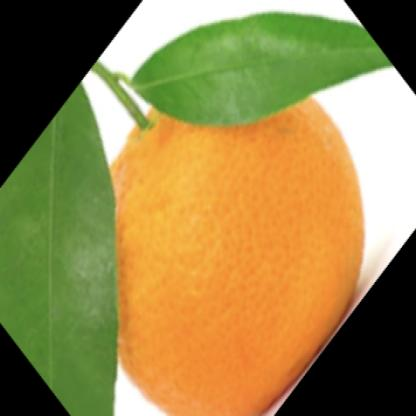fresh: (86, 72, 366, 416)
